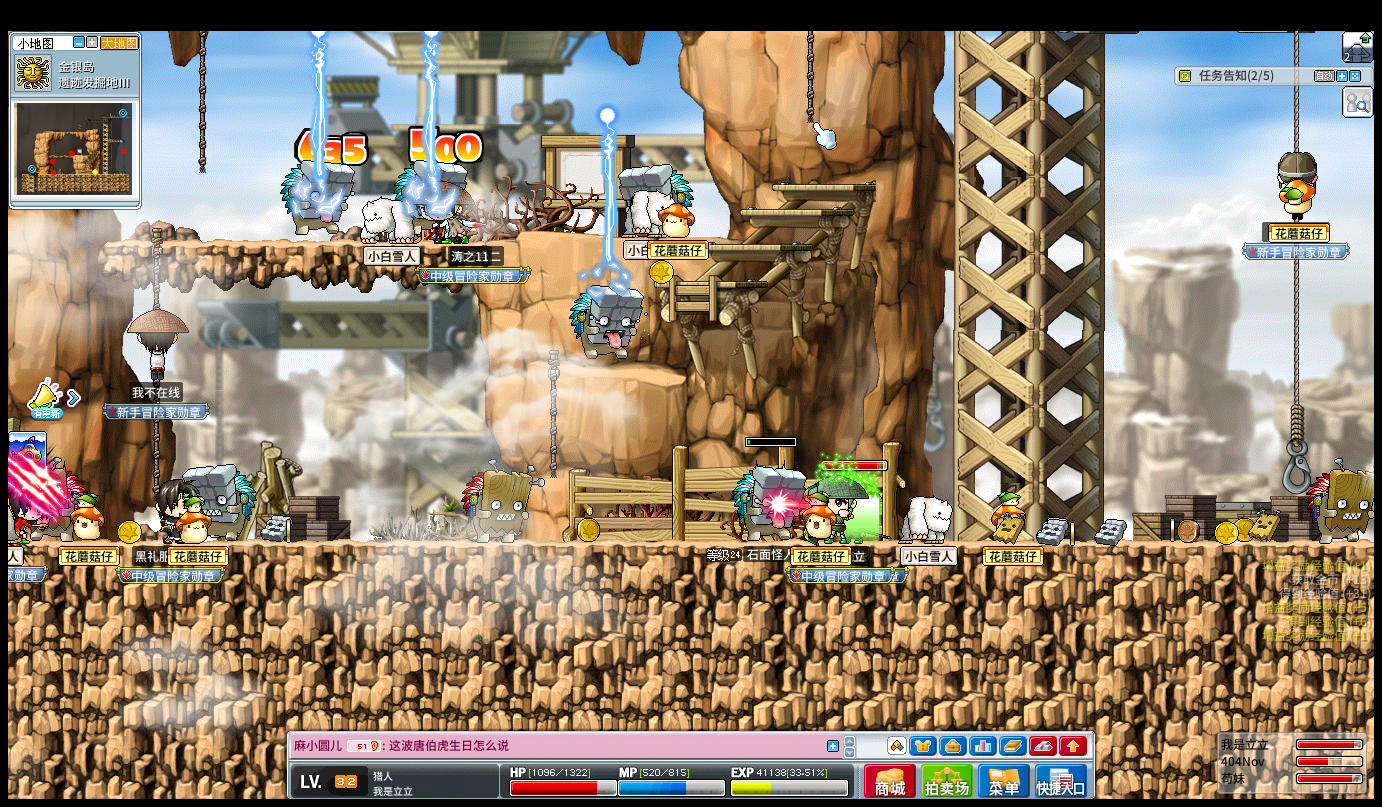floor: (105, 237, 477, 248), (578, 364, 689, 387), (612, 232, 733, 240), (736, 207, 852, 215), (701, 242, 811, 250), (650, 280, 767, 287), (771, 184, 877, 191)
monster: (460, 463, 538, 545), (569, 285, 643, 370), (1305, 461, 1378, 541), (278, 162, 353, 238), (394, 159, 465, 236), (199, 464, 257, 542), (619, 164, 695, 196)
rope: (544, 354, 557, 479), (1292, 256, 1302, 411), (198, 31, 207, 173), (805, 29, 814, 124), (1292, 30, 1299, 148), (153, 227, 163, 308), (1289, 400, 1304, 443), (152, 421, 160, 496)
